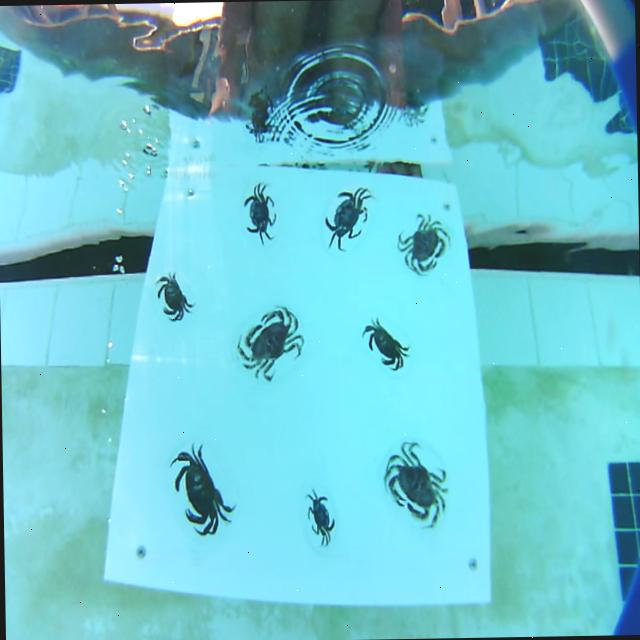green_crab: (325, 187, 372, 251), (243, 182, 276, 245), (306, 488, 334, 544)
jonah_crab: (383, 442, 448, 527), (237, 306, 304, 381), (397, 213, 450, 274)
rock_crab: (170, 443, 234, 535), (362, 318, 409, 370), (156, 272, 193, 321)
